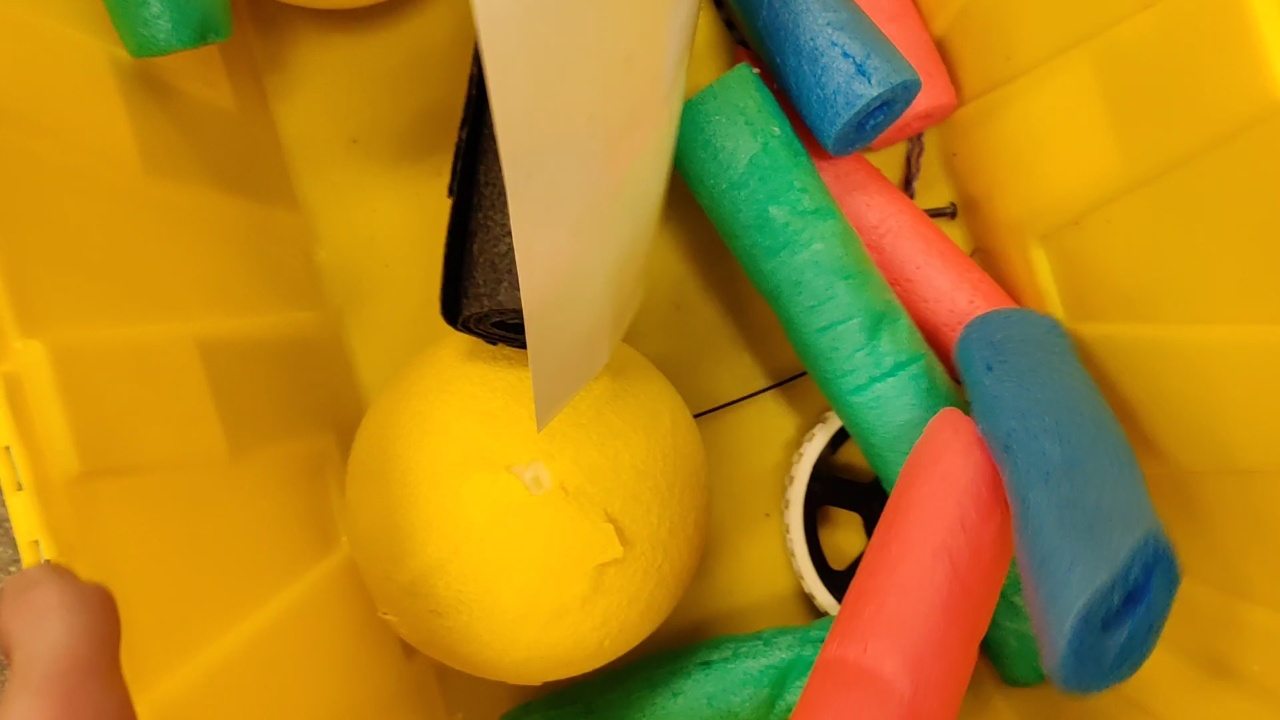Ball: (341, 330, 713, 687)
